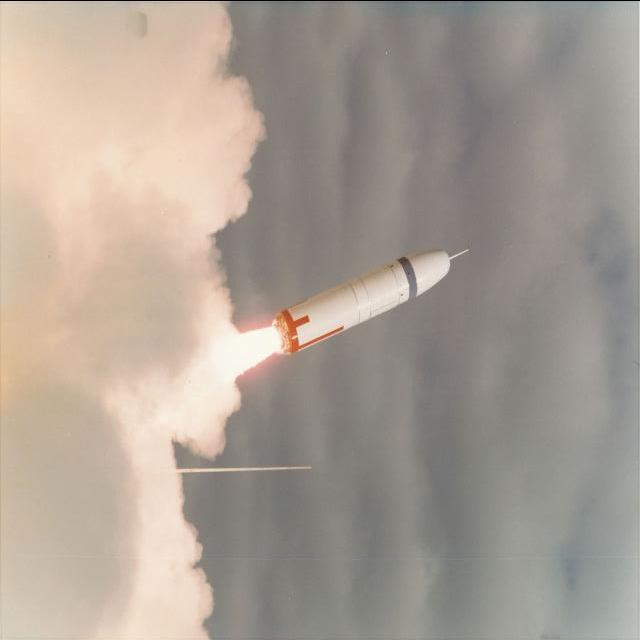missile: (261, 239, 462, 353)
